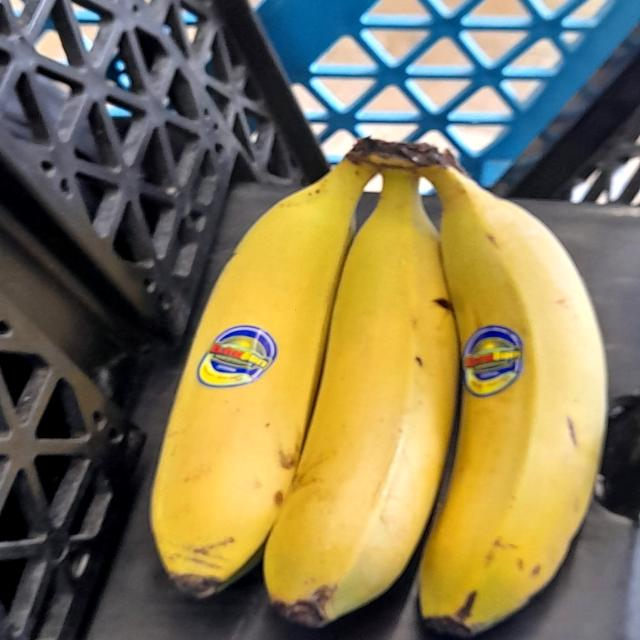banana: (399, 120, 617, 640)
